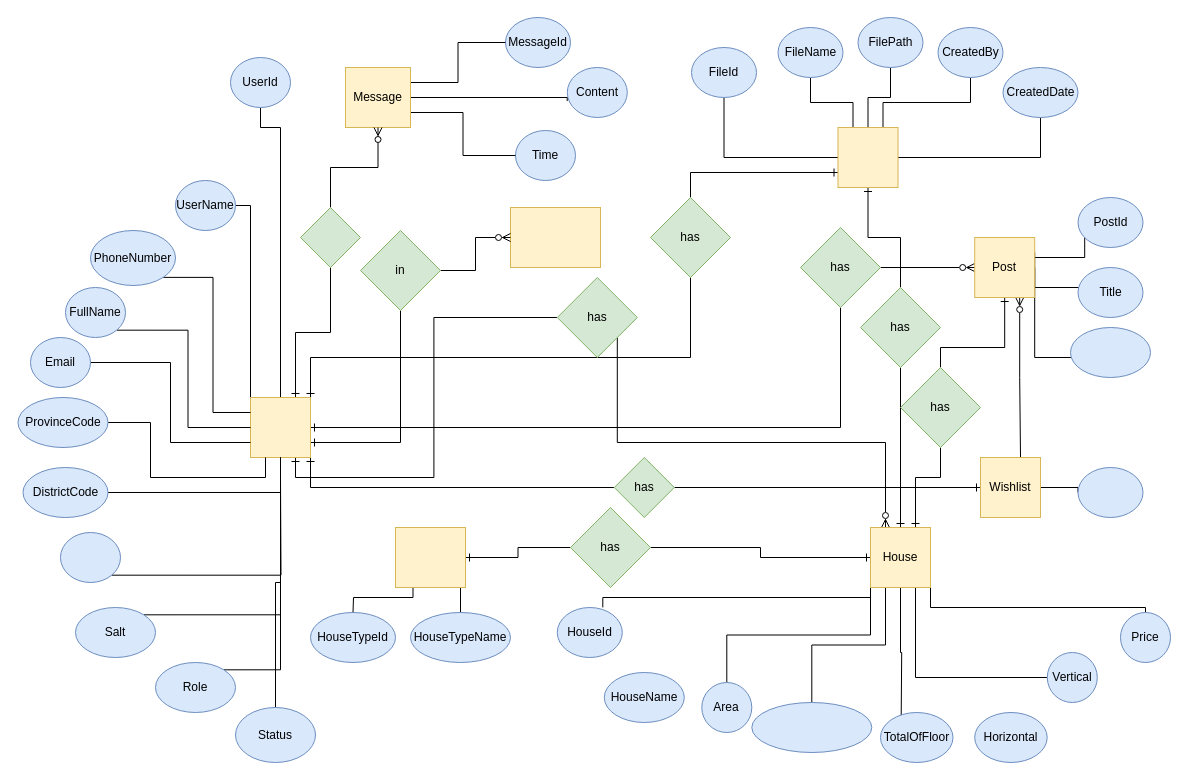
Some shapes in this 1188 by 780 pixel diagram are drawn without their labels. The centre of each missing label's shape, as x and y in pixels:
Conversation: pixel 555 237
Descrtiption: pixel 1110 352
File: pixel 867 157
HouseType: pixel 430 557
NumberOfBedroom: pixel 811 727
Password: pixel 90 557
send: pixel 330 237
User: pixel 280 427
WishlistId: pixel 1110 492
